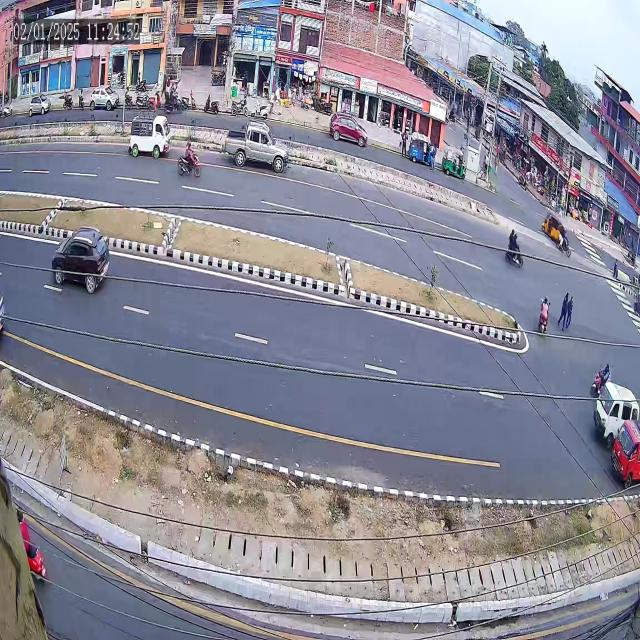auto: (538, 199, 568, 252)
car: (50, 222, 117, 302), (220, 107, 290, 182)
motorcycle: (498, 215, 529, 273), (177, 137, 206, 190), (590, 352, 615, 399)
van: (128, 110, 174, 167)
